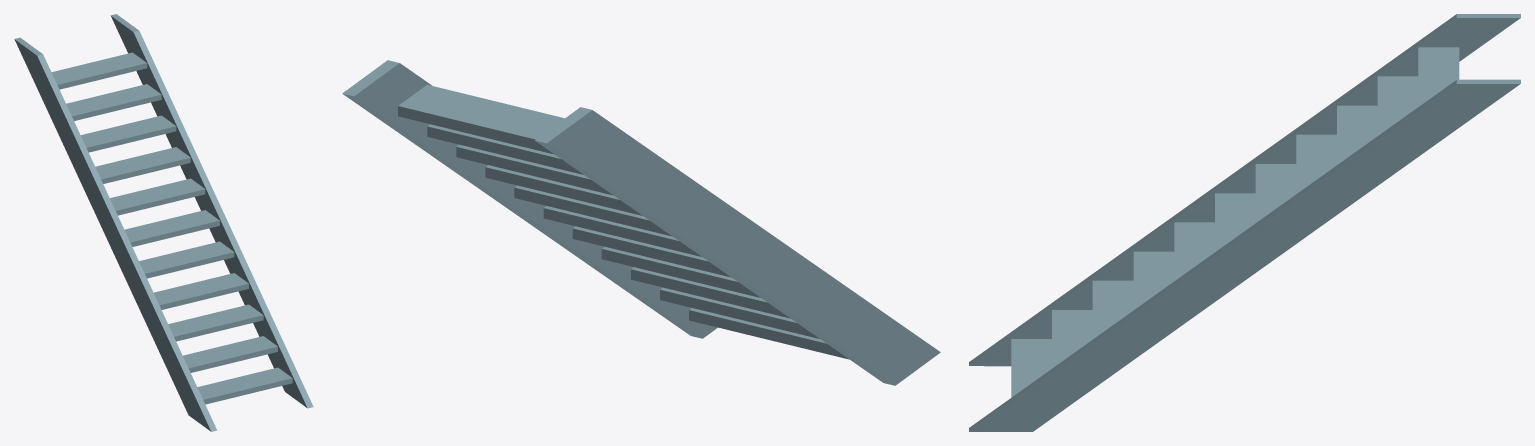
The model's file is Stairs_099.glb.
3 renders of one model, left to right at view 1: azimuth 30°, elevation 25°; view 2: azimuth 150°, elevation 25°; view 3: azimuth 270°, elevation 25°, orthographic. The views are drawn at different scales.
Parts seen in each view (by area): view 1: Stairs_099; view 2: Stairs_099; view 3: Stairs_099.
Boxes of the visible parts, x1,y1,x2,y2 form: Stairs_099: [14, 14, 313, 431]; Stairs_099: [342, 60, 940, 385]; Stairs_099: [969, 14, 1520, 431].
Bounding box in the file's own units: 1.72 × 4 × 5.74.
1 material, 1 textured.
